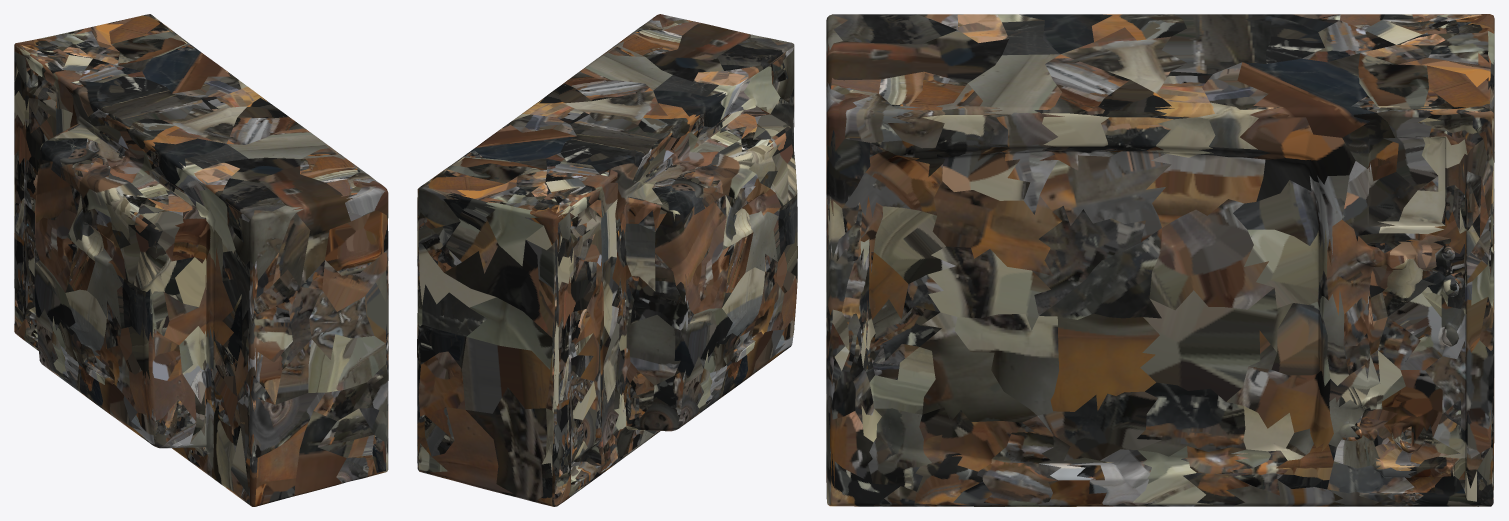
File: televisor.fbx
The picture shows the model from 3 angles, left to right: view 1: azimuth 30°, elevation 25°; view 2: azimuth 150°, elevation 25°; view 3: azimuth 270°, elevation 25°; orthographic projection. The views are drawn at different scales.
Visible parts, largest first — view 1: temp; view 2: temp; view 3: temp.
Part boxes in pixels (x1,y1,x2,y2): temp: (14, 14, 388, 506); temp: (417, 14, 797, 506); temp: (826, 14, 1494, 506).
Bounding box in the file's own units: 97.51 × 133 × 199.
